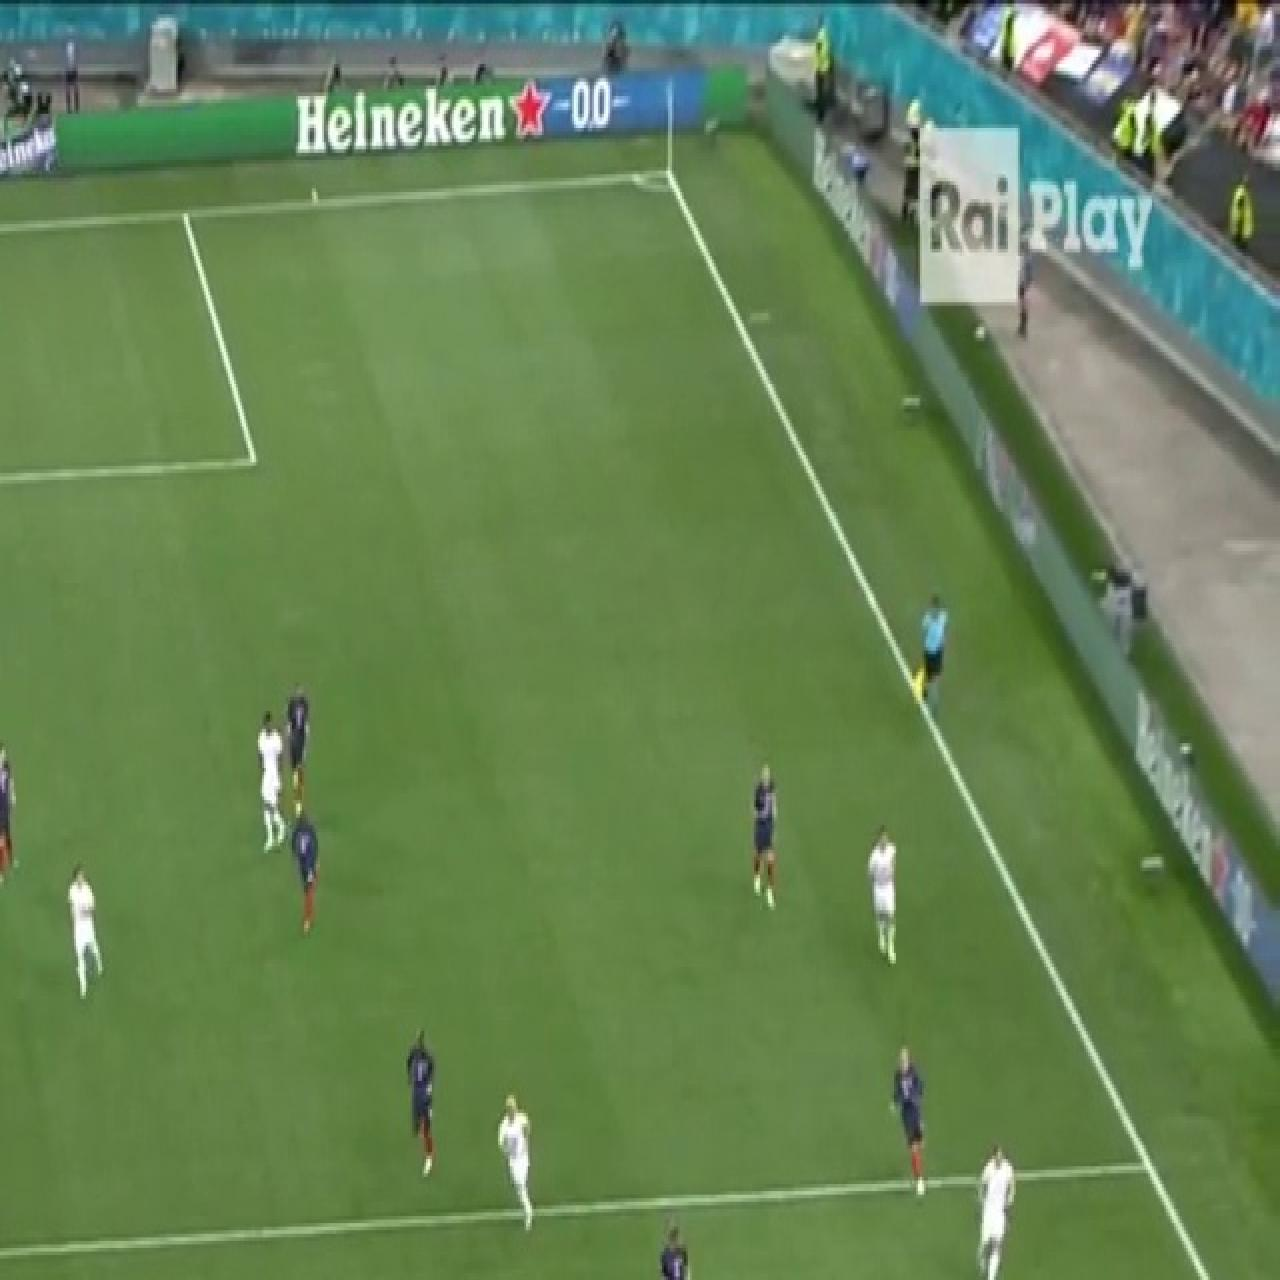football: (884, 1032, 945, 1211), (494, 1088, 540, 1246), (64, 856, 110, 1009), (911, 578, 955, 730), (746, 750, 783, 920), (974, 1134, 1016, 1280), (865, 815, 902, 976), (403, 1023, 437, 1193), (254, 701, 290, 859), (279, 671, 314, 824), (290, 795, 324, 944), (0, 732, 20, 892), (650, 1216, 694, 1280)
